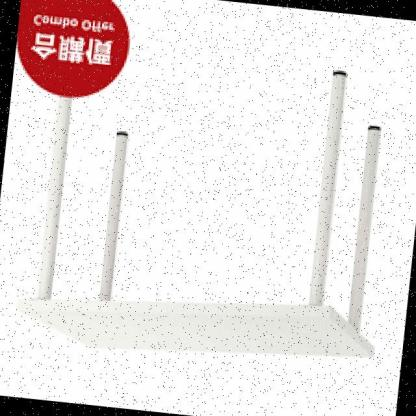Table: (11, 38, 411, 388)
